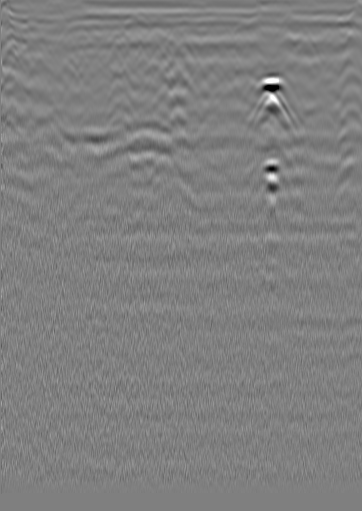가스: (254, 156, 293, 195)
상수: (23, 27, 43, 47)
오수: (294, 31, 314, 51)
우수: (170, 38, 190, 58)
